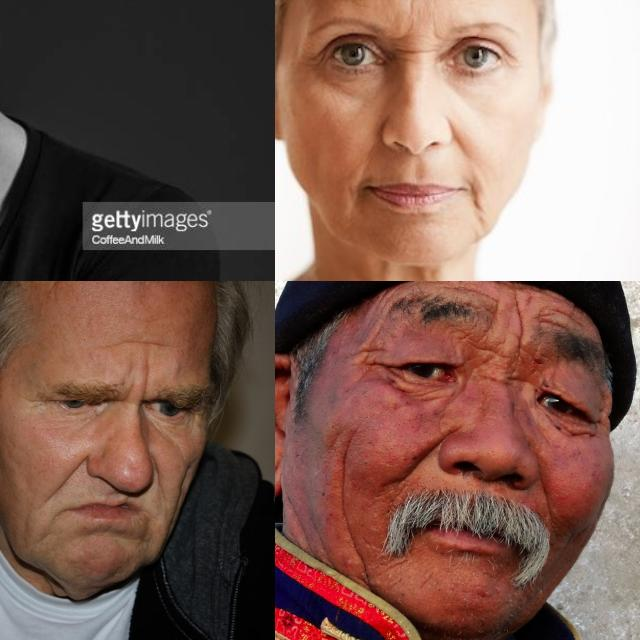crows_feet: (355, 338, 393, 390)
forehead: (539, 305, 587, 333), (444, 281, 496, 305), (118, 332, 172, 353)
frown_line: (467, 334, 499, 370), (397, 36, 438, 60), (508, 310, 528, 356), (138, 374, 150, 406)
gummy_smile: (403, 430, 441, 480), (52, 452, 88, 494), (533, 469, 553, 525), (362, 120, 390, 154), (446, 122, 472, 156)
masseter: (326, 444, 362, 536), (349, 540, 376, 580)
sad_smile: (462, 178, 482, 212)
